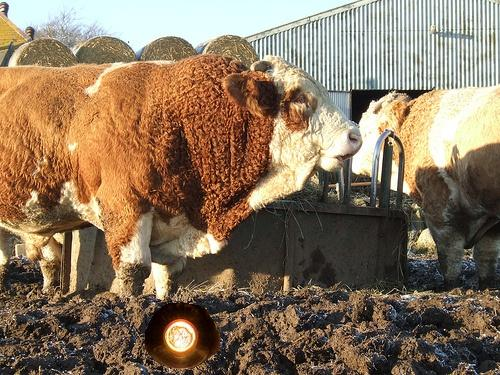tampered: (146, 304, 220, 369)
